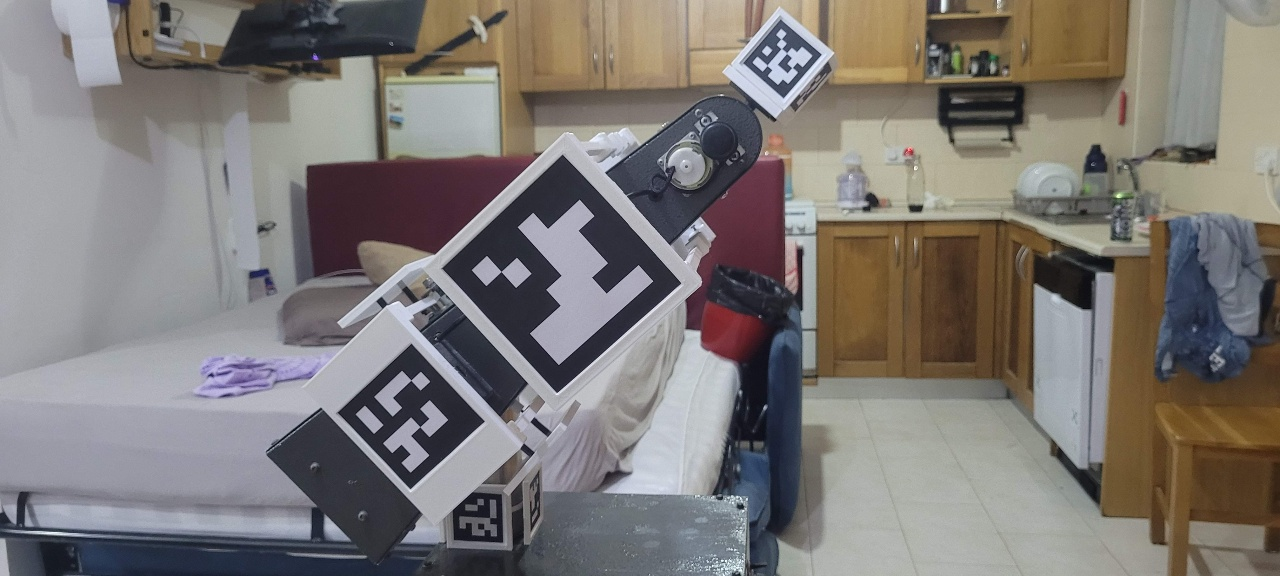Robot: (267, 6, 836, 565)
